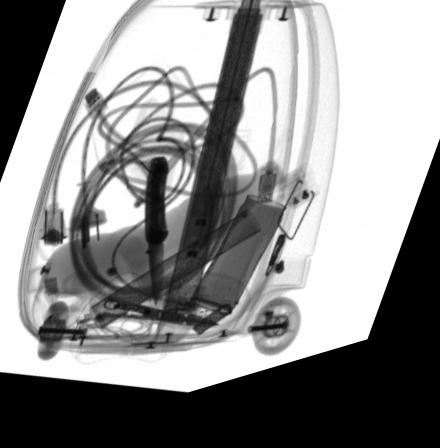Knife: (145, 165, 170, 317)
Scissors: (36, 267, 222, 338)
